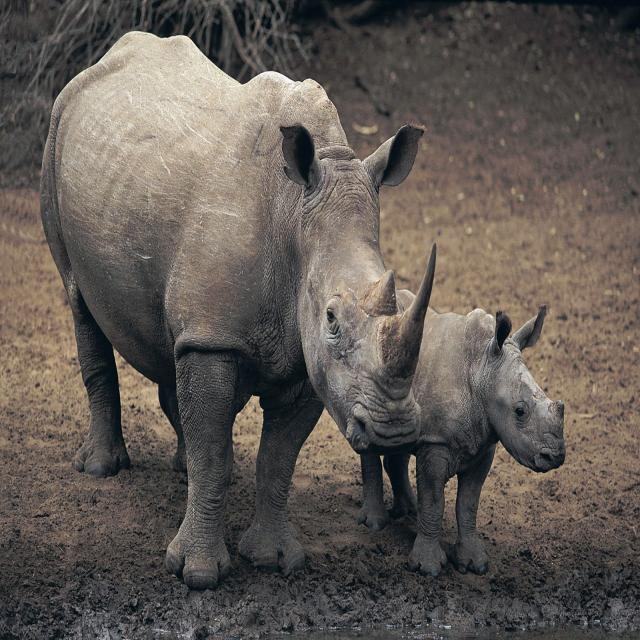rhinoceros: (40, 32, 436, 588), (410, 306, 566, 574)
